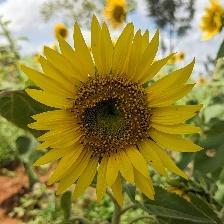sunflower: (35, 34, 198, 200), (199, 2, 224, 45), (106, 1, 131, 30), (54, 25, 72, 42), (197, 76, 211, 89), (166, 53, 179, 66), (177, 50, 186, 63)
